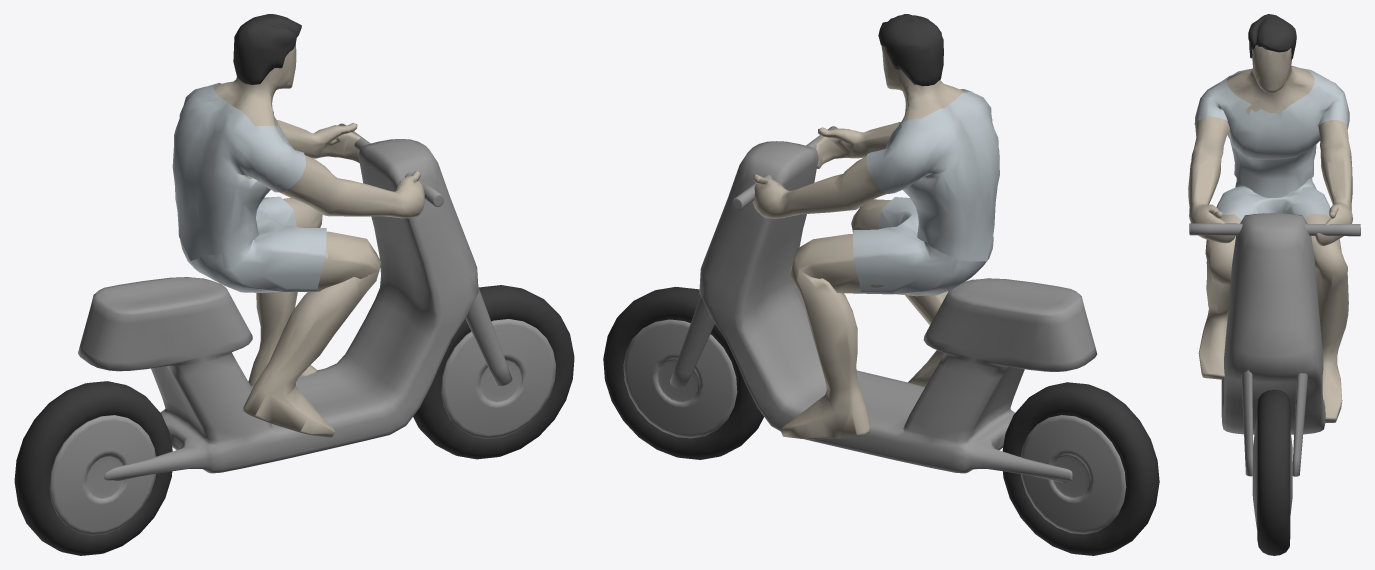
File: ELECTRICBICYCLE.glb
3 views of the same model, side by side, from view 1: azimuth 30°, elevation 25°; view 2: azimuth 150°, elevation 25°; view 3: azimuth 270°, elevation 25° (orthographic). The views are drawn at different scales.
Parts seen in each view (by area): view 1: body, lainglun_3, lainglun_4, lainglun_5, lainglun_1; view 2: body, lainglun_4, lainglun_3, lainglun_5, lainglun_1; view 3: body, lainglun_3, lainglun_4, lainglun_5, lainglun_1.
Boxes of the visible parts, x1,y1,x2,y2 form: body: [49, 123, 555, 535]; lainglun_3: [213, 43, 424, 437]; lainglun_4: [172, 83, 326, 292]; lainglun_5: [14, 285, 574, 555]; lainglun_1: [233, 14, 301, 84]; body: [623, 126, 1126, 534]; lainglun_4: [853, 89, 999, 295]; lainglun_3: [752, 45, 966, 439]; lainglun_5: [603, 287, 1159, 555]; lainglun_1: [878, 14, 943, 86]; body: [1189, 213, 1360, 529]; lainglun_3: [1188, 45, 1352, 422]; lainglun_4: [1194, 66, 1349, 219]; lainglun_5: [1257, 389, 1290, 555]; lainglun_1: [1248, 14, 1296, 59].
Bounding box in the file's own units: 2.02 × 1.72 × 0.6249.
